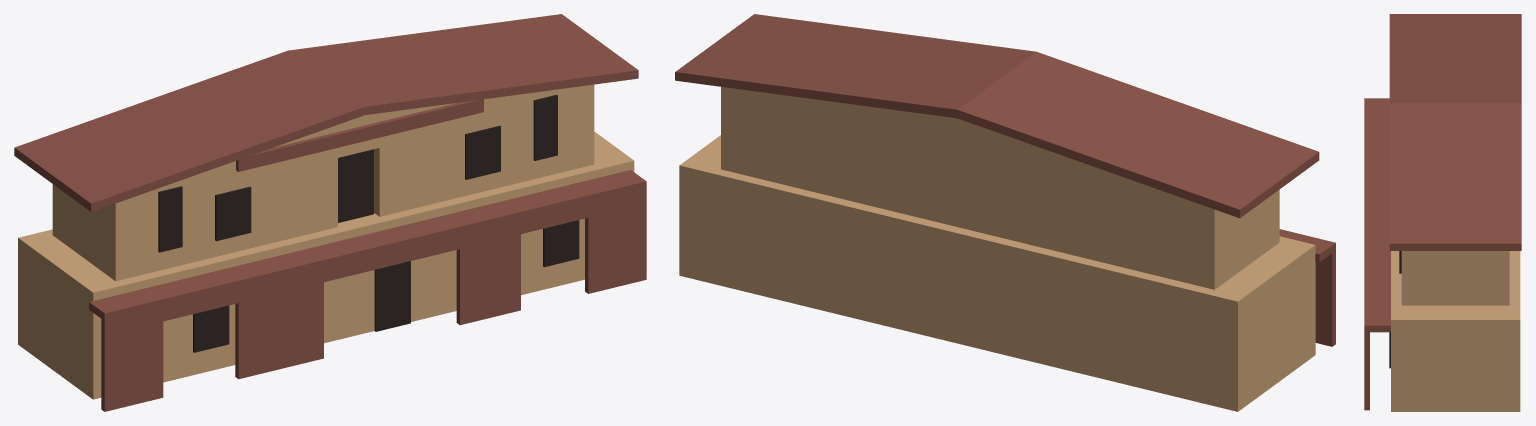
File: casarao.fbx
The picture shows the model from 3 angles, left to right: view 1: azimuth 30°, elevation 25°; view 2: azimuth 150°, elevation 25°; view 3: azimuth 270°, elevation 25°; orthographic projection. The views are drawn at different scales.
Parts seen in each view (by area): view 1: Plane, Cube.010, Cube.001, Cube, Cube.012, Cube.007, Cube.002, Cube.008, Cube.009, Cube.003, Cube.005, Cube.004 (+1 smaller); view 2: Cube, Cube.001, Plane, Cube.010; view 3: Plane, Cube, Cube.010, Cube.001.
Boxes of the visible parts, x1=… form: Plane: x1=14, y1=14, x2=638, y2=211; Cube.010: x1=89, y1=170, x2=646, y2=411; Cube.001: x1=52, y1=84, x2=594, y2=281; Cube: x1=18, y1=131, x2=634, y2=399; Cube.012: x1=236, y1=99, x2=483, y2=171; Cube.007: x1=338, y1=149, x2=373, y2=222; Cube.002: x1=374, y1=261, x2=410, y2=331; Cube.008: x1=215, y1=186, x2=251, y2=241; Cube.009: x1=465, y1=125, x2=500, y2=179; Cube.003: x1=158, y1=186, x2=182, y2=252; Cube.005: x1=533, y1=94, x2=557, y2=160; Cube.004: x1=193, y1=305, x2=229, y2=352; Cube: x1=679, y1=135, x2=1315, y2=411; Cube.001: x1=721, y1=87, x2=1279, y2=289; Plane: x1=675, y1=14, x2=1319, y2=218; Cube.010: x1=1279, y1=229, x2=1335, y2=346; Plane: x1=1389, y1=14, x2=1521, y2=250; Cube: x1=1391, y1=251, x2=1520, y2=411; Cube.010: x1=1364, y1=98, x2=1390, y2=410; Cube.001: x1=1401, y1=251, x2=1509, y2=305.
Size of the model in its own units: 1016 by 403 by 294.
